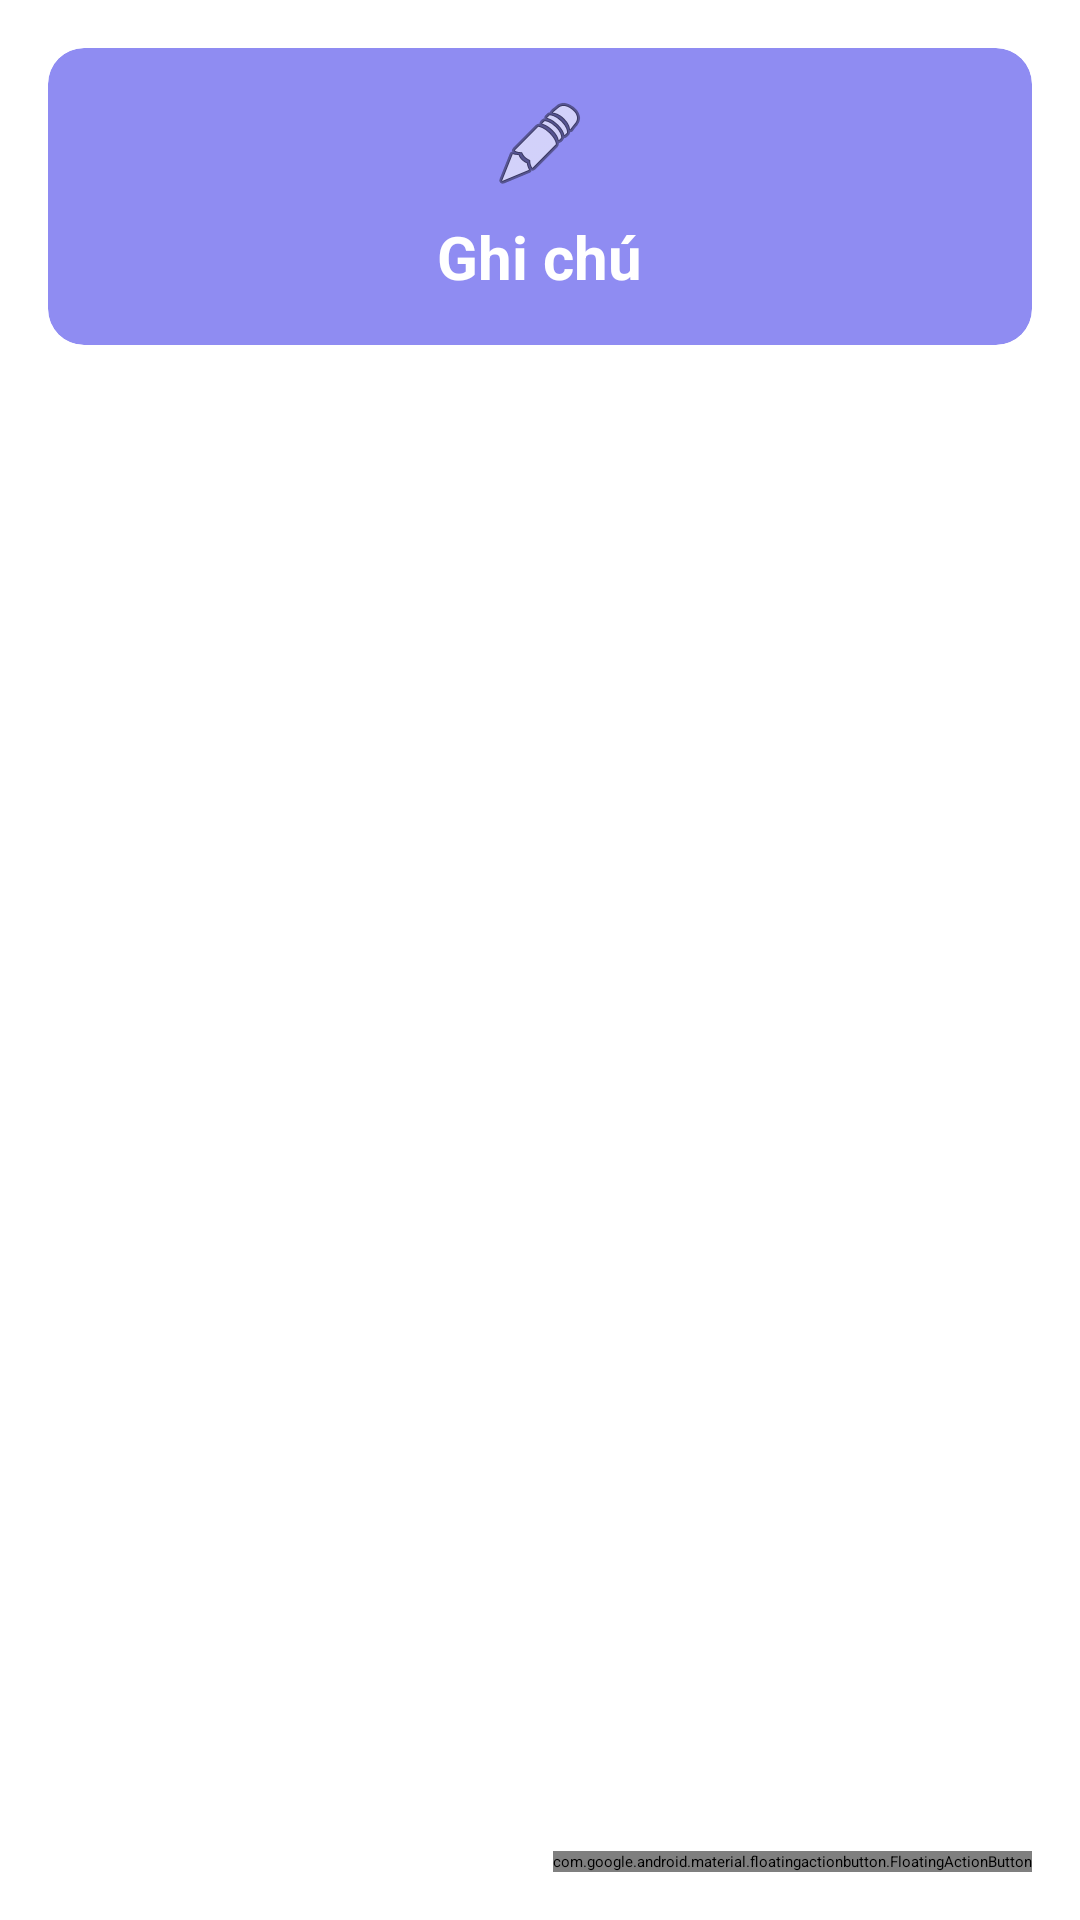

Named icons in this screenshot (1080px x 1920px) and their centers, [x,y]:
edit: [539,143]
